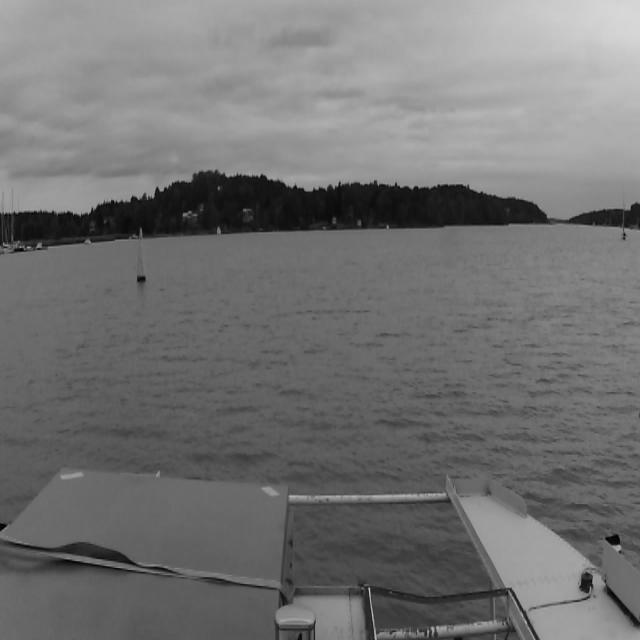buoy: (134, 220, 148, 289)
ship: (618, 186, 628, 241), (85, 239, 92, 245)
